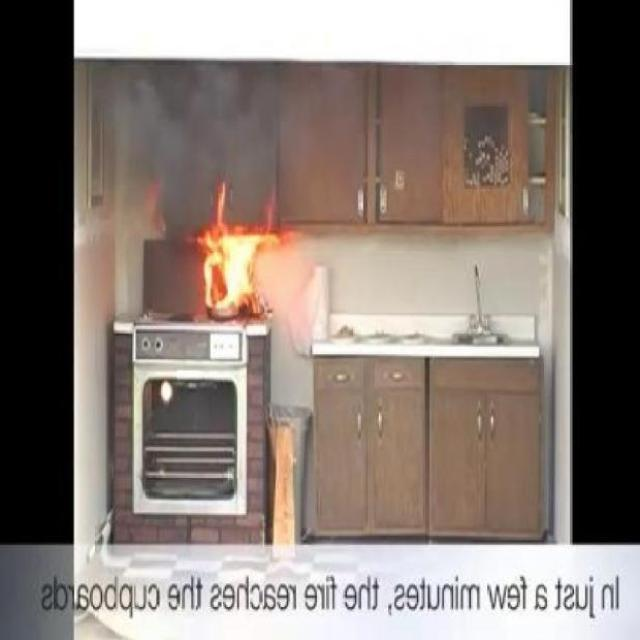fire: (102, 64, 294, 227)
smoke: (190, 230, 293, 319)
